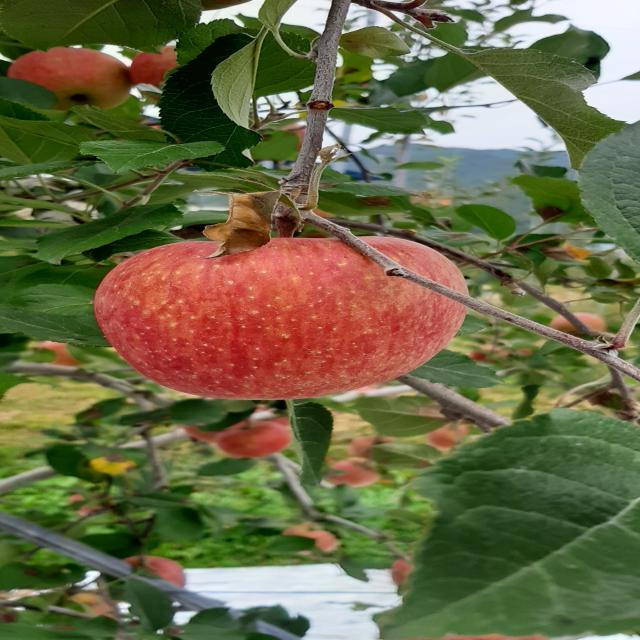fresh: (88, 224, 485, 405)
